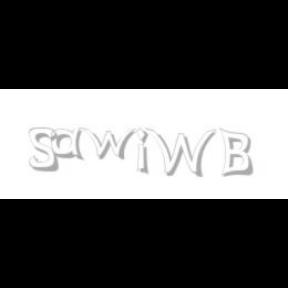B: (219, 128, 253, 178)
S: (29, 128, 60, 172)
W: (145, 128, 217, 178)
a: (52, 128, 88, 160)
i: (136, 128, 152, 176)
w: (82, 128, 140, 160)
